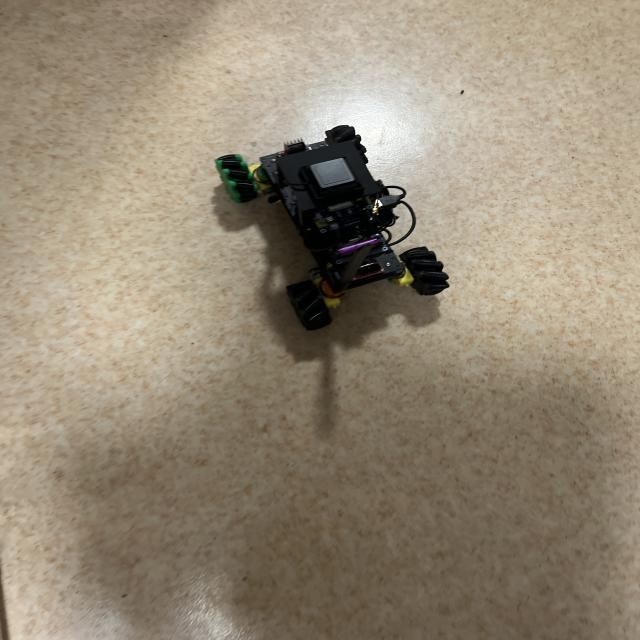robot: (215, 125, 449, 330)
